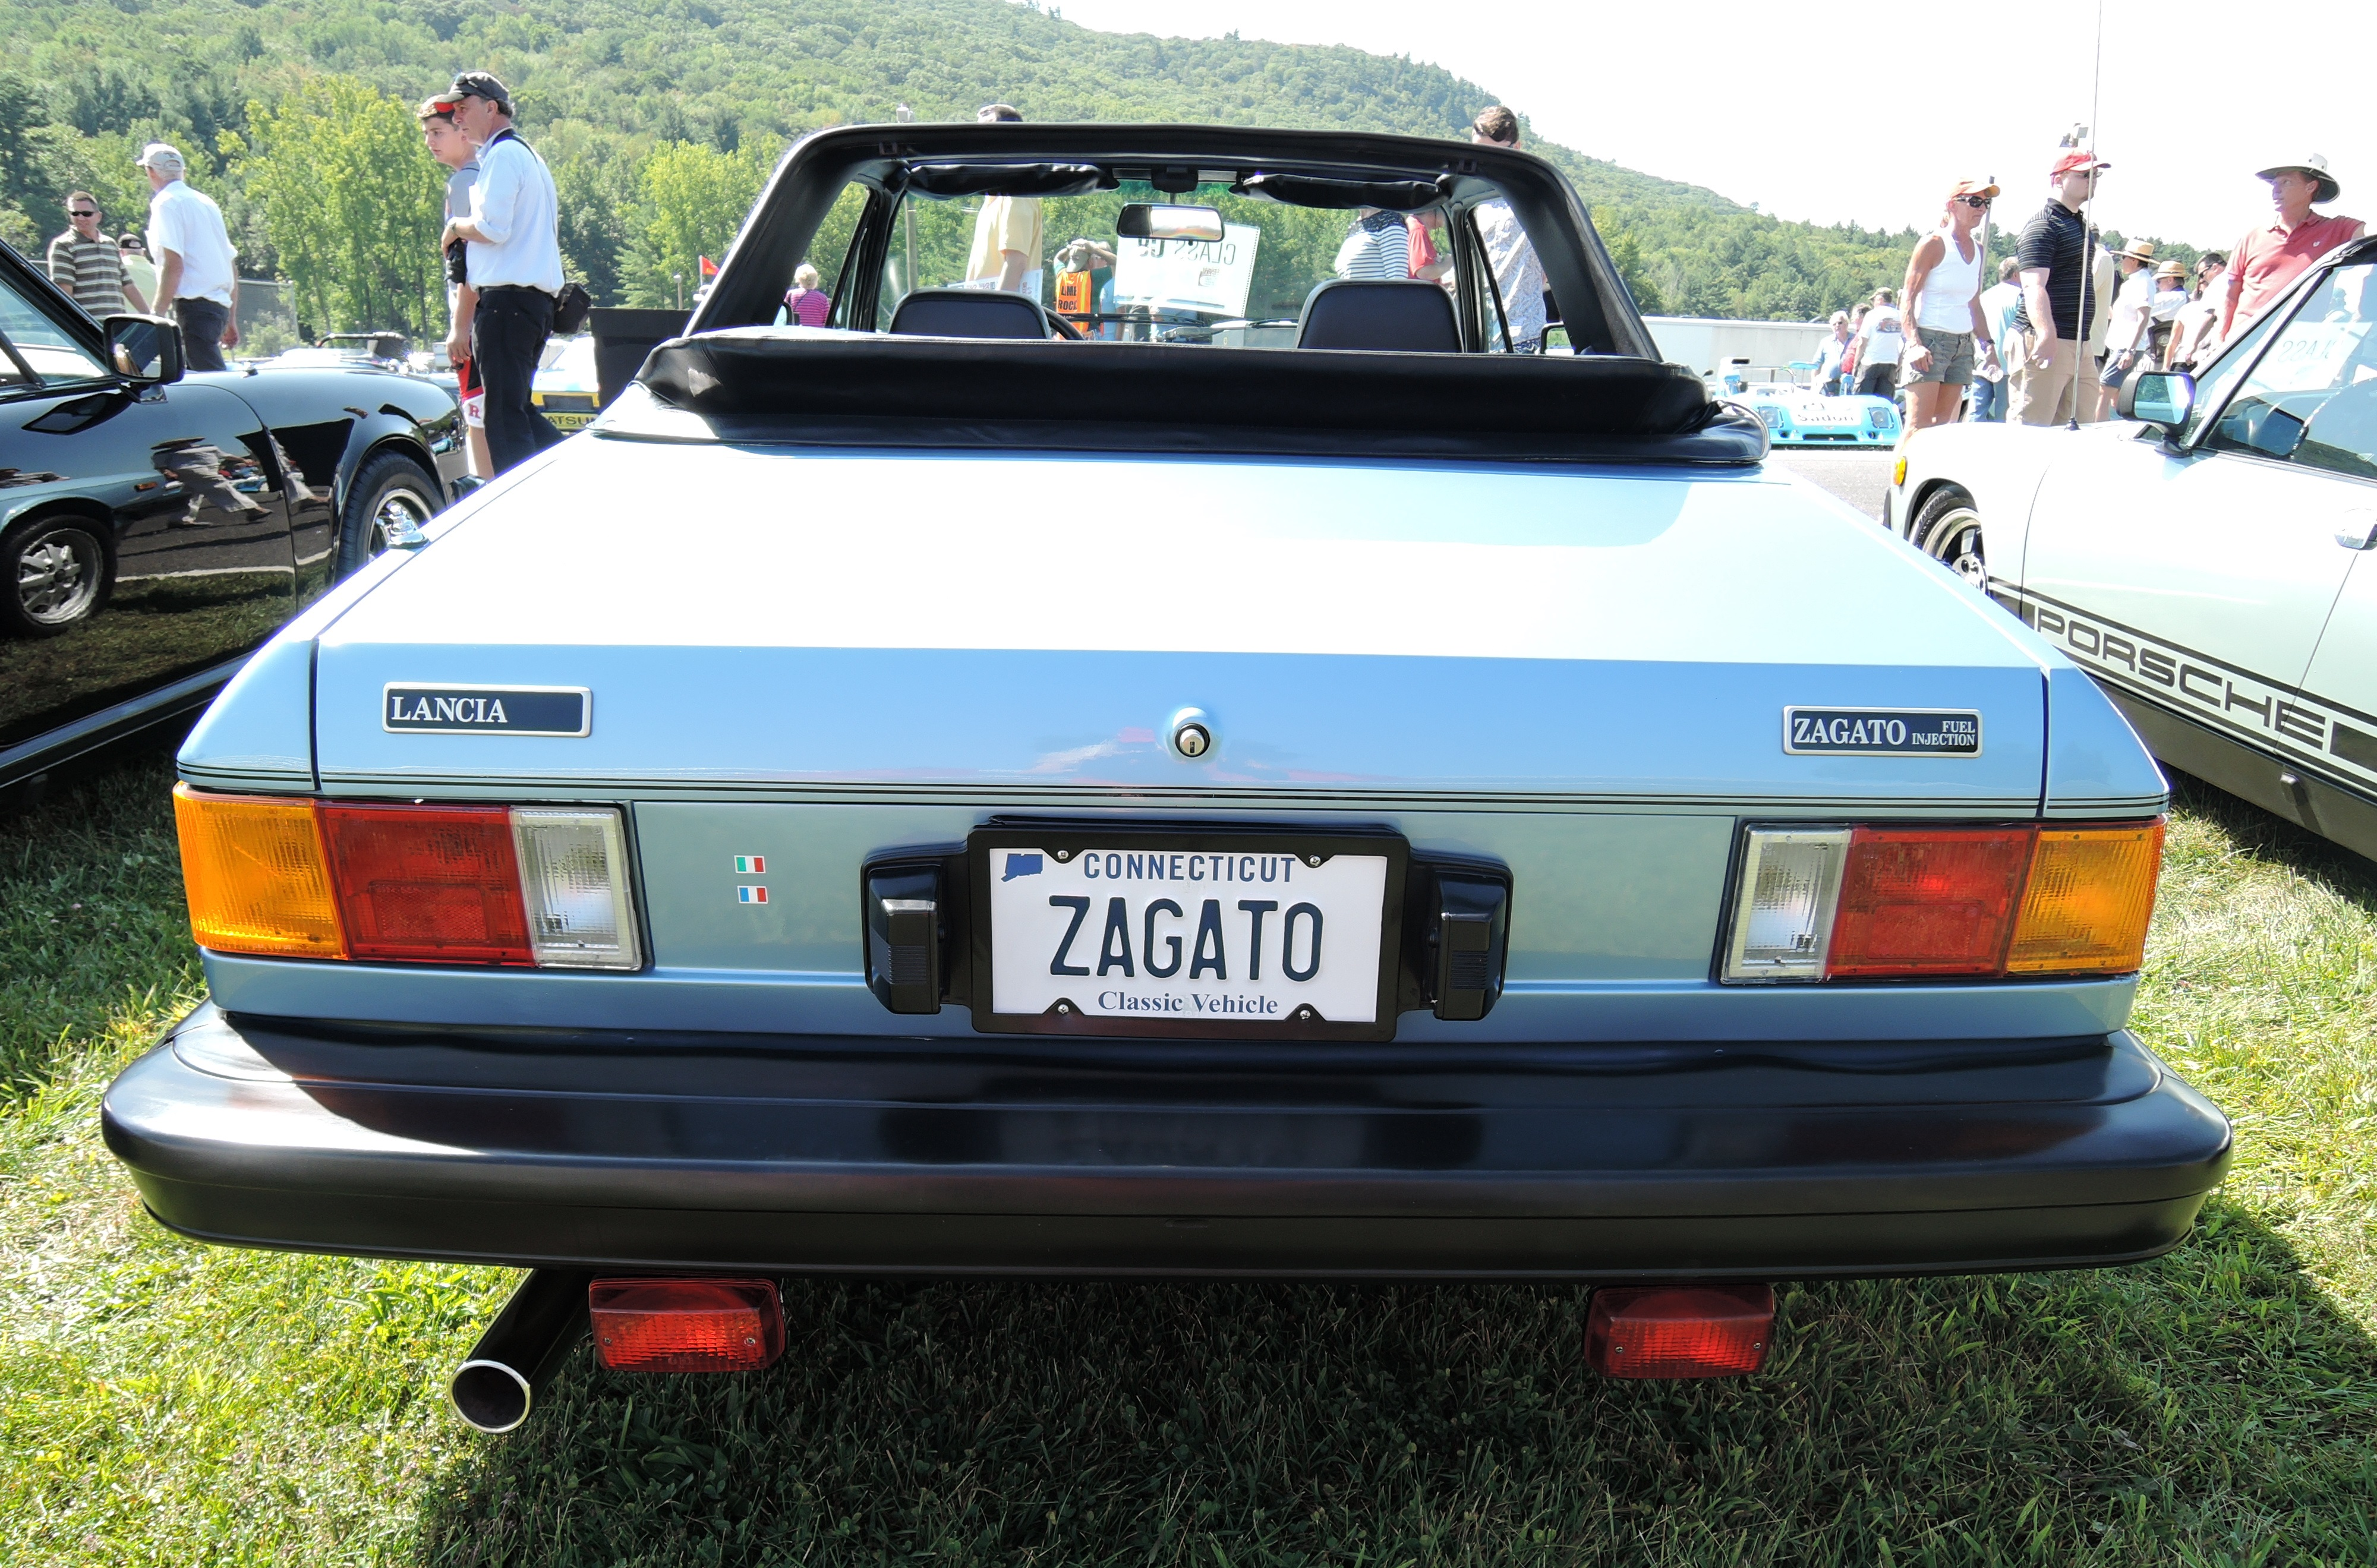license plate: (980, 835, 1396, 1036)
